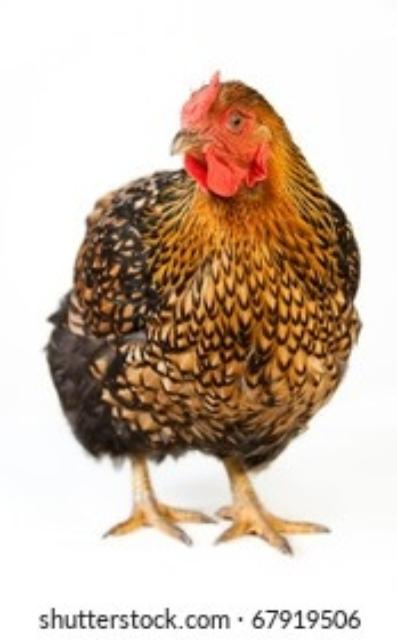Chicken: (42, 69, 366, 558)
